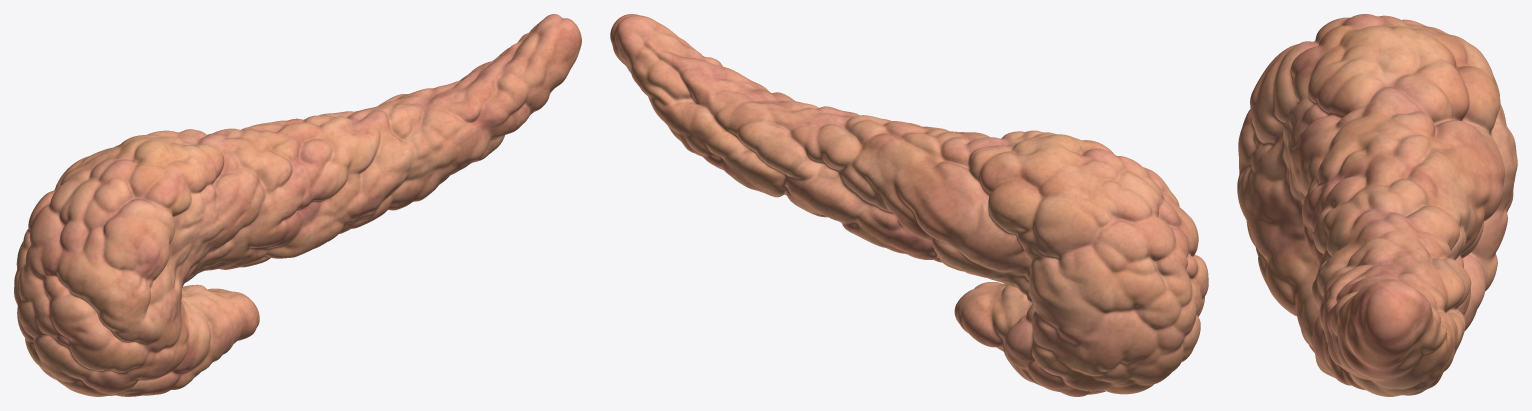
File: meshopt-halftex-v1-3657f06c50bf.glb
3 renders of one model, left to right at view 1: azimuth 30°, elevation 25°; view 2: azimuth 150°, elevation 25°; view 3: azimuth 270°, elevation 25°, orthographic. The views are drawn at different scales.
Bounding box in the file's own units: 1.9 × 0.85 × 0.5734.
Materials: 1 (1 with a texture image).
